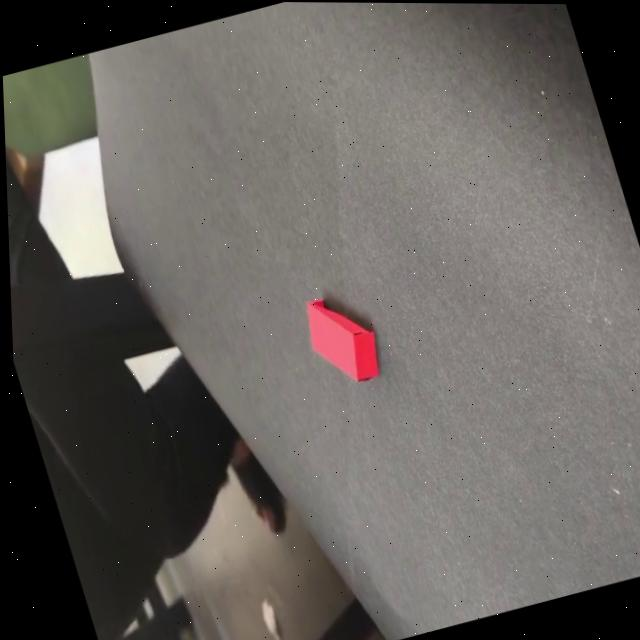red block: (296, 286, 388, 392)
